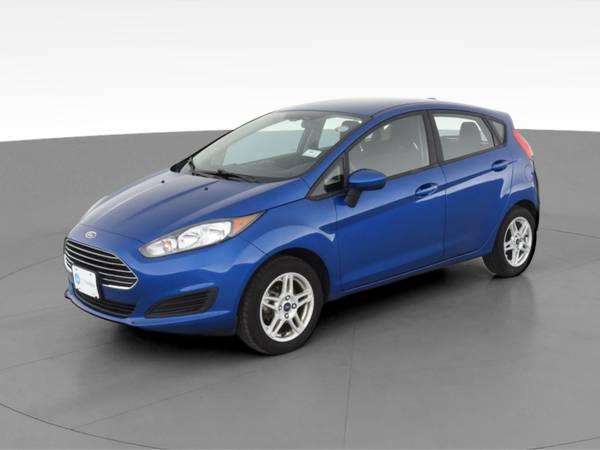Front_Bumper: (62, 236, 266, 335)
Front_Fender: (238, 166, 344, 298)
Front_Left_Door: (333, 163, 445, 292)
Front_Left_Window: (335, 111, 438, 195)
Front_Windshield: (169, 112, 368, 184)
Grille: (64, 241, 139, 294)
Hood: (66, 168, 308, 250)
Left_Headlight: (140, 211, 267, 259)
Left_Taillight: (513, 130, 532, 159)
Rear_Fender: (483, 118, 540, 211)
Rear_Left_Door: (437, 143, 514, 264)
Rear_Left_Window: (428, 110, 500, 162)
Roof: (274, 95, 510, 188)
Wheel: (246, 256, 324, 353), (483, 208, 537, 274)
